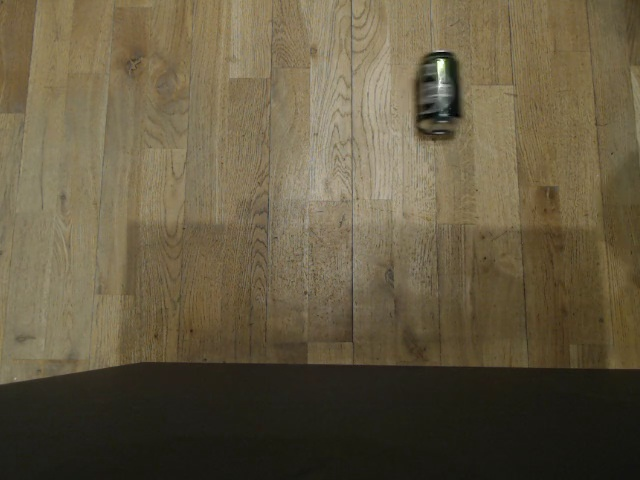beer: (411, 49, 464, 141)
